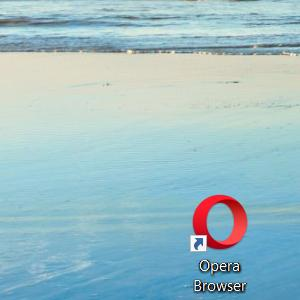opera: (190, 194, 248, 252)
